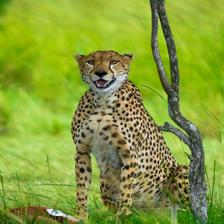Cheetah: (64, 51, 206, 224)
